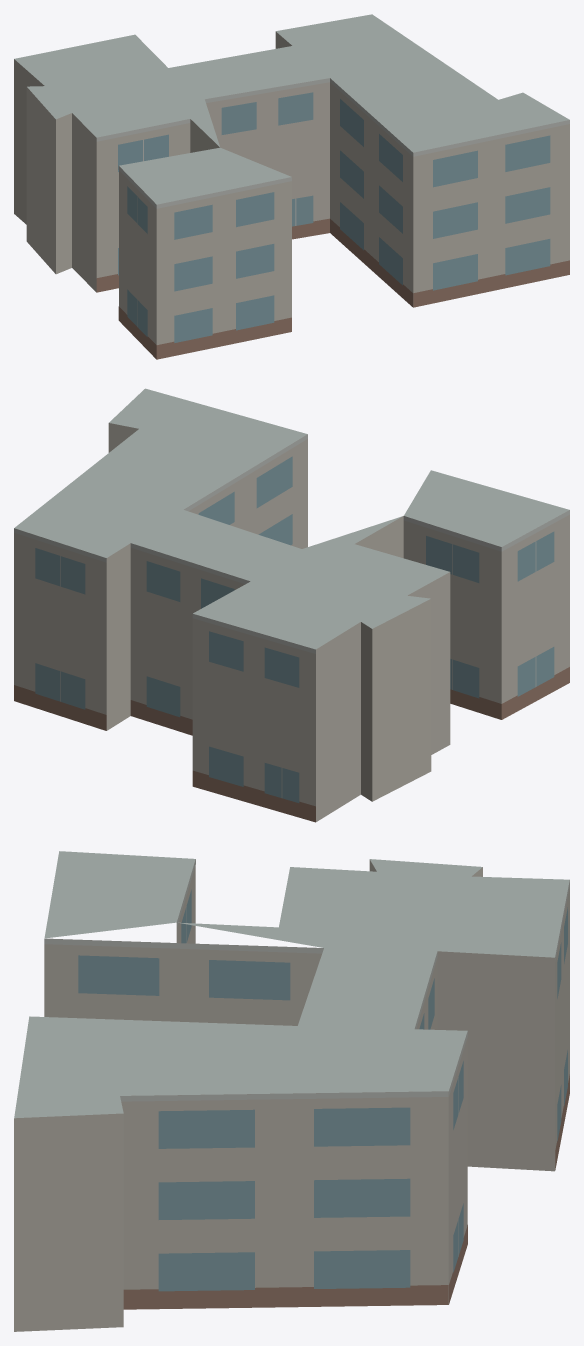
File: survey-upis-33033499.glb
3 renders of one model, top to bottom at view 1: azimuth 30°, elevation 25°; view 2: azimuth 150°, elevation 25°; view 3: azimuth 270°, elevation 25°, orthographic. The views are drawn at different scales.
Parts seen in each view (by area): view 1: survey-upis-33033499.tmp; view 2: survey-upis-33033499.tmp; view 3: survey-upis-33033499.tmp.
Boxes of the visible parts, bbox=[...] form: survey-upis-33033499.tmp: bbox=[14, 14, 569, 359]; survey-upis-33033499.tmp: bbox=[14, 388, 569, 822]; survey-upis-33033499.tmp: bbox=[14, 851, 569, 1331].
Bounding box in the file's own units: 24.54 × 9.15 × 21.58.
